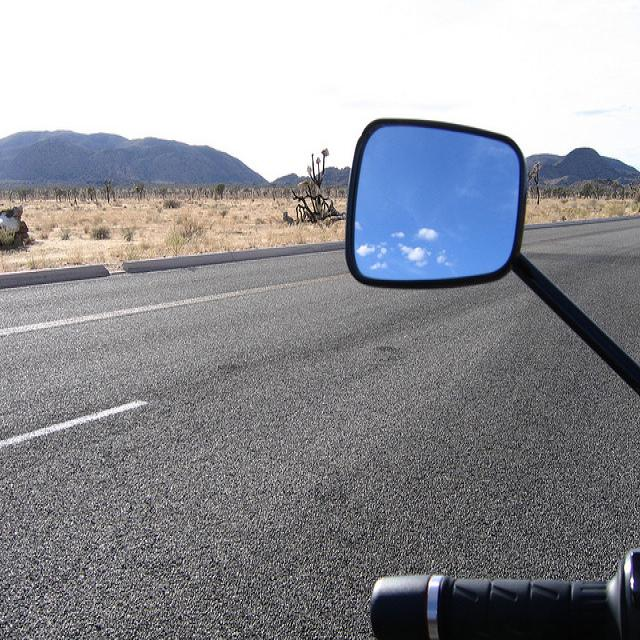motor: (341, 116, 640, 628)
